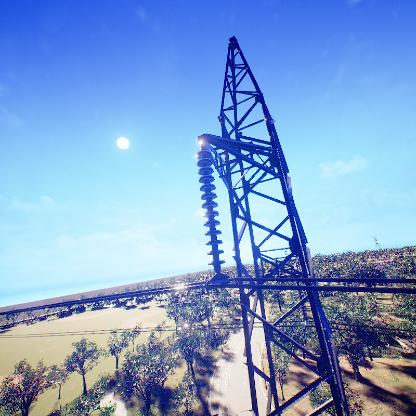insulator: (194, 148, 225, 268)
